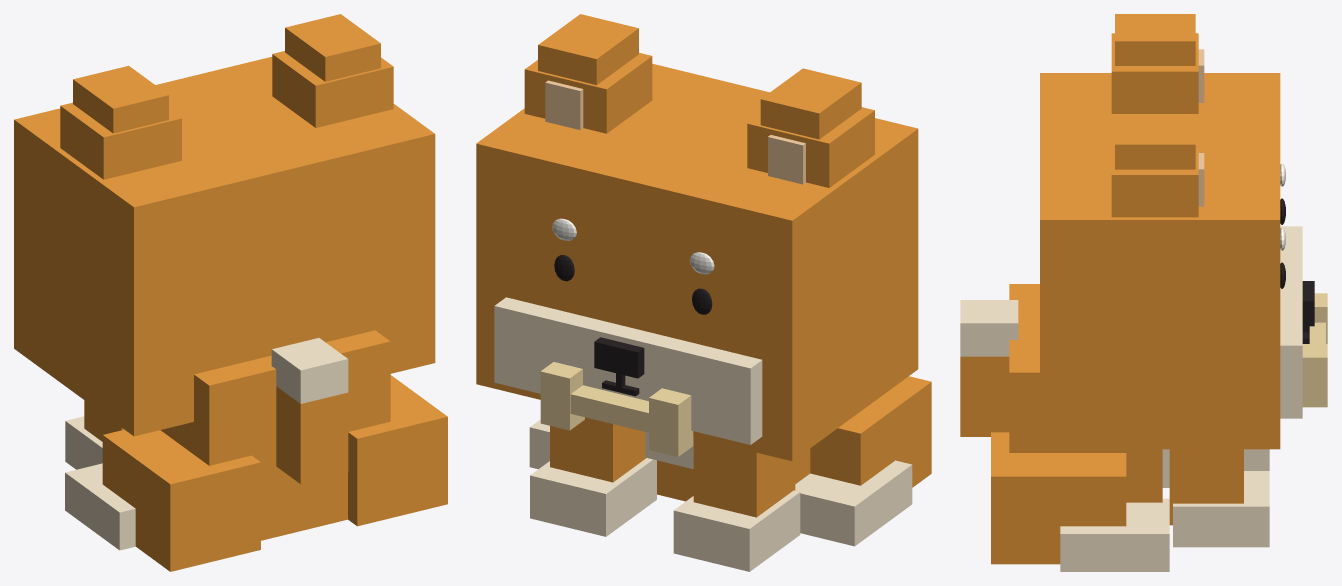
The model's file is Shiba_Block.obj.
The picture shows the model from 3 angles, left to right: view 1: azimuth 30°, elevation 25°; view 2: azimuth 150°, elevation 25°; view 3: azimuth 270°, elevation 25°; orthographic projection. The views are drawn at different scales.
Parts seen in each view (by area): view 1: BigHead, ShortTorso, LegBL_Leg, LegBR_Leg, TailRoot, EarR_Base, EarL_Base, EarL_BluntTop, EarR_BluntTop, TailCreamTip, LegBL_Paw, LegFL_Paw (+1 smaller); view 2: BigHead, CreamMuzzle, LegBL_Leg, LegFL_Paw, LegFR_Paw, LegBL_Paw, LegFL_Leg, EarL_BluntTop, EarR_BluntTop, EarR_Base, EarL_Base, LegFR_Leg (+9 smaller); view 3: BigHead, LegBR_Leg, ShortTorso, LegBR_Paw, LegFR_Paw, EarR_Base, EarL_Base, EarR_BluntTop, LegFR_Leg, EarL_BluntTop, CreamMuzzle, TailRoot (+4 smaller).
Part boxes in pixels (box(x1,y1,x2,y2)): BigHead: box(14, 56, 435, 436); ShortTorso: box(160, 330, 390, 540); LegBL_Leg: box(102, 429, 260, 571); LegBR_Leg: box(348, 375, 447, 526); TailRoot: box(276, 386, 348, 484); EarR_Base: box(272, 51, 393, 127); EarL_Base: box(60, 102, 181, 179); EarL_BluntTop: box(73, 65, 168, 133); EarR_BluntTop: box(285, 14, 380, 81); TailCreamTip: box(271, 338, 348, 403); LegBL_Paw: box(65, 463, 135, 550); LegFL_Paw: box(65, 416, 102, 469); BigHead: box(476, 63, 918, 461); CreamMuzzle: box(494, 297, 762, 444); LegBL_Leg: box(810, 376, 931, 487); LegFL_Paw: box(673, 490, 800, 571); LegFR_Paw: box(530, 458, 656, 536); LegBL_Paw: box(795, 460, 912, 546); LegFL_Leg: box(693, 437, 795, 517); EarL_BluntTop: box(760, 68, 861, 139); EarR_BluntTop: box(538, 14, 638, 85); EarR_Base: box(524, 52, 652, 133); EarL_Base: box(747, 107, 874, 187); LegFR_Leg: box(550, 417, 646, 482); BigHead: box(1040, 73, 1280, 449); LegBR_Leg: box(991, 432, 1126, 564); ShortTorso: box(1009, 284, 1162, 502); LegBR_Paw: box(1060, 498, 1169, 571); LegFR_Paw: box(1173, 471, 1269, 547); EarR_Base: box(1111, 137, 1198, 217); EarL_Base: box(1111, 33, 1198, 113); EarR_BluntTop: box(1115, 117, 1195, 169); LegFR_Leg: box(1169, 449, 1243, 525); EarL_BluntTop: box(1115, 14, 1195, 65); CreamMuzzle: box(1280, 226, 1302, 418); TailRoot: box(960, 356, 1009, 436).
Size of the model in its own units: 2.22 by 2.86 by 2.28.
